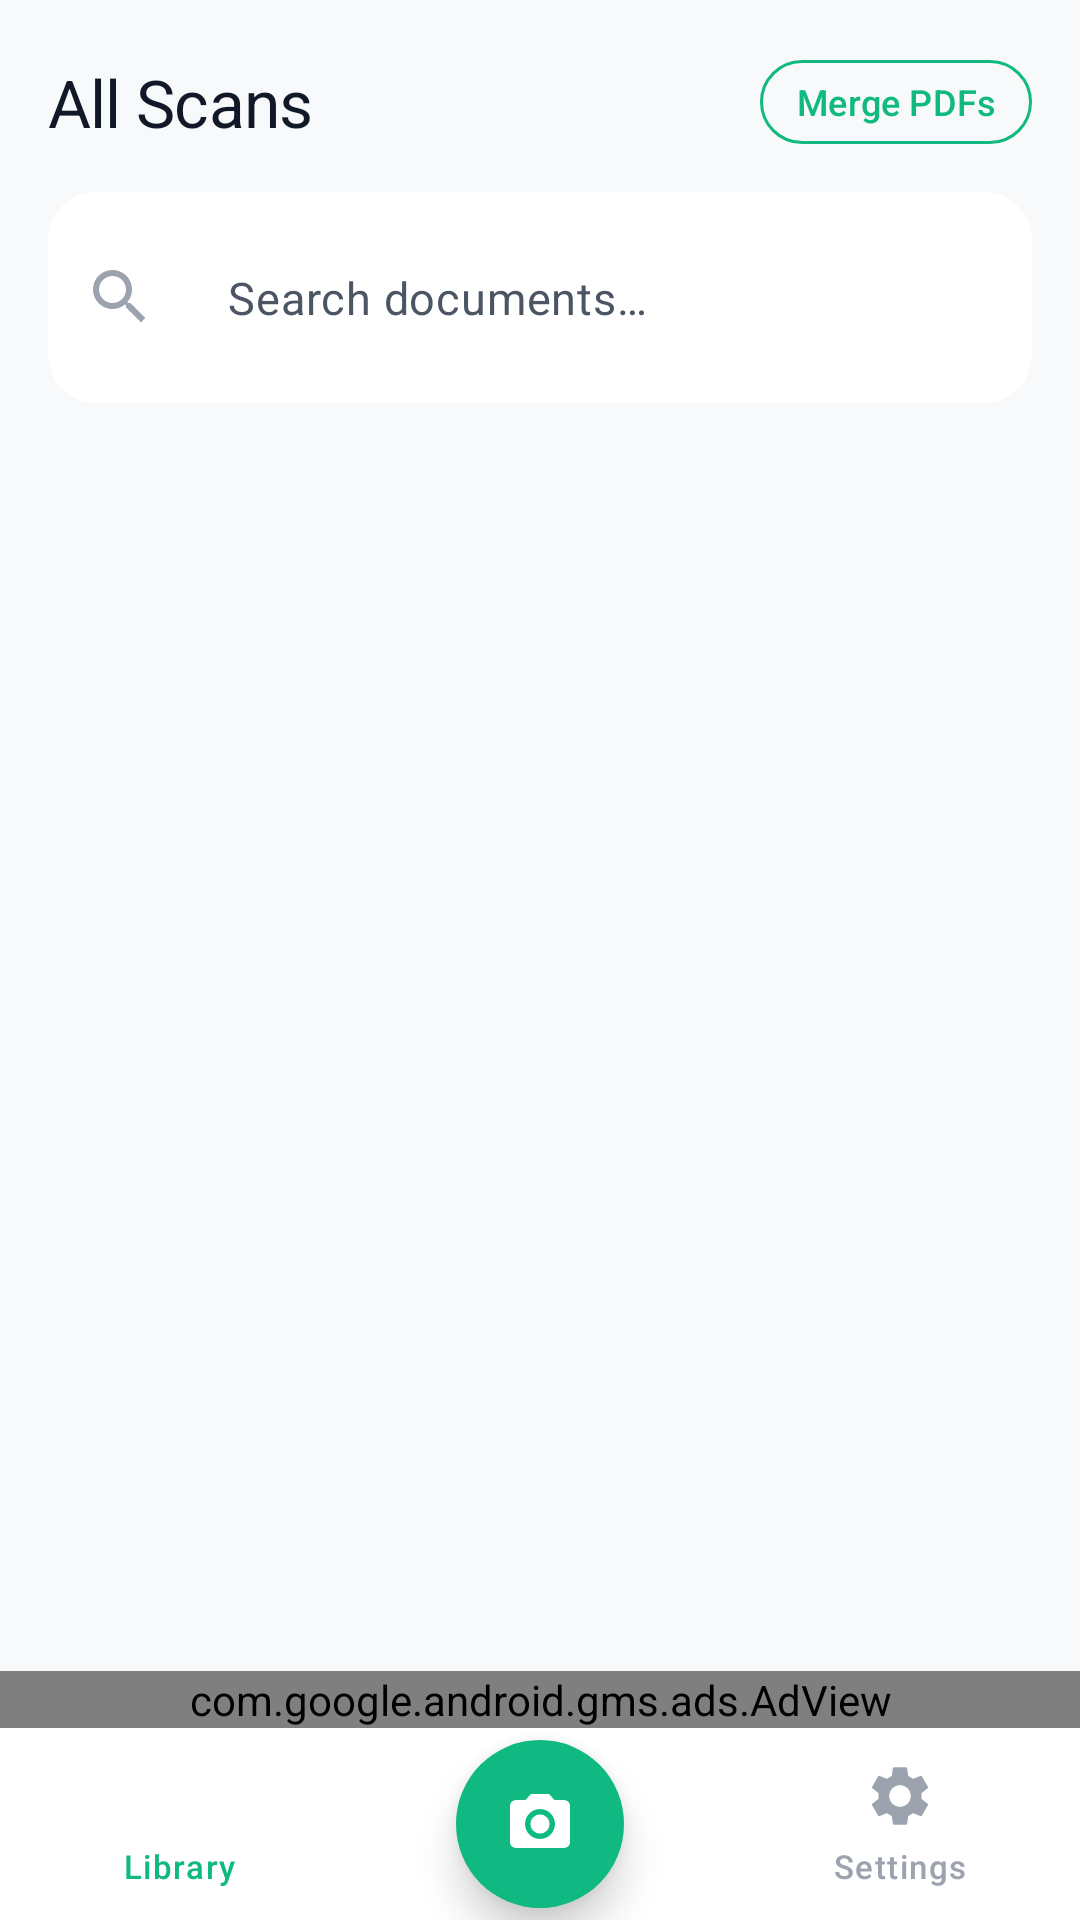

Point at icon controls on the screen. Image size 1080 x 1920, points as (x,y).
Open camera: (540,1824)
